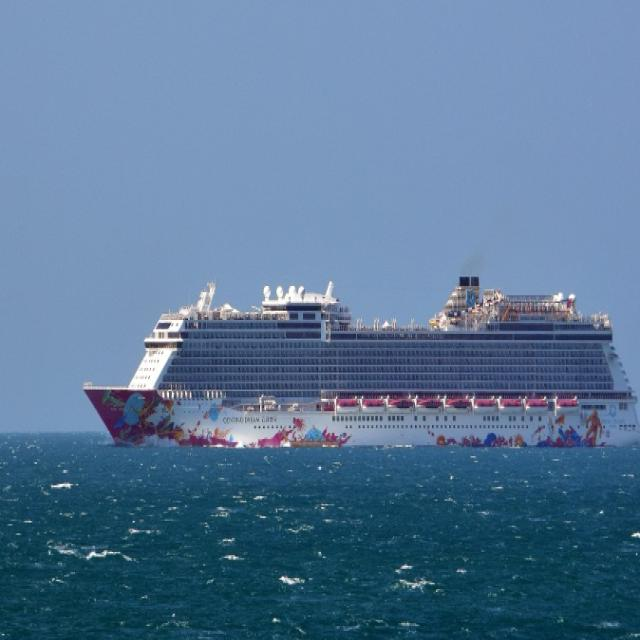cruises: (78, 275, 640, 460)
